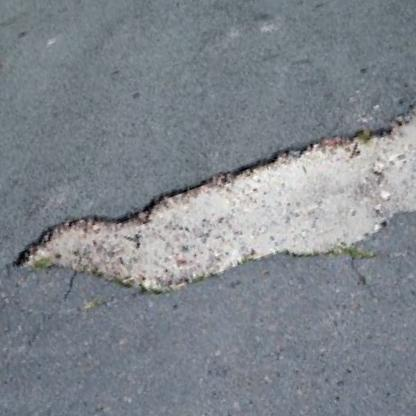pothole: (23, 81, 416, 346)
